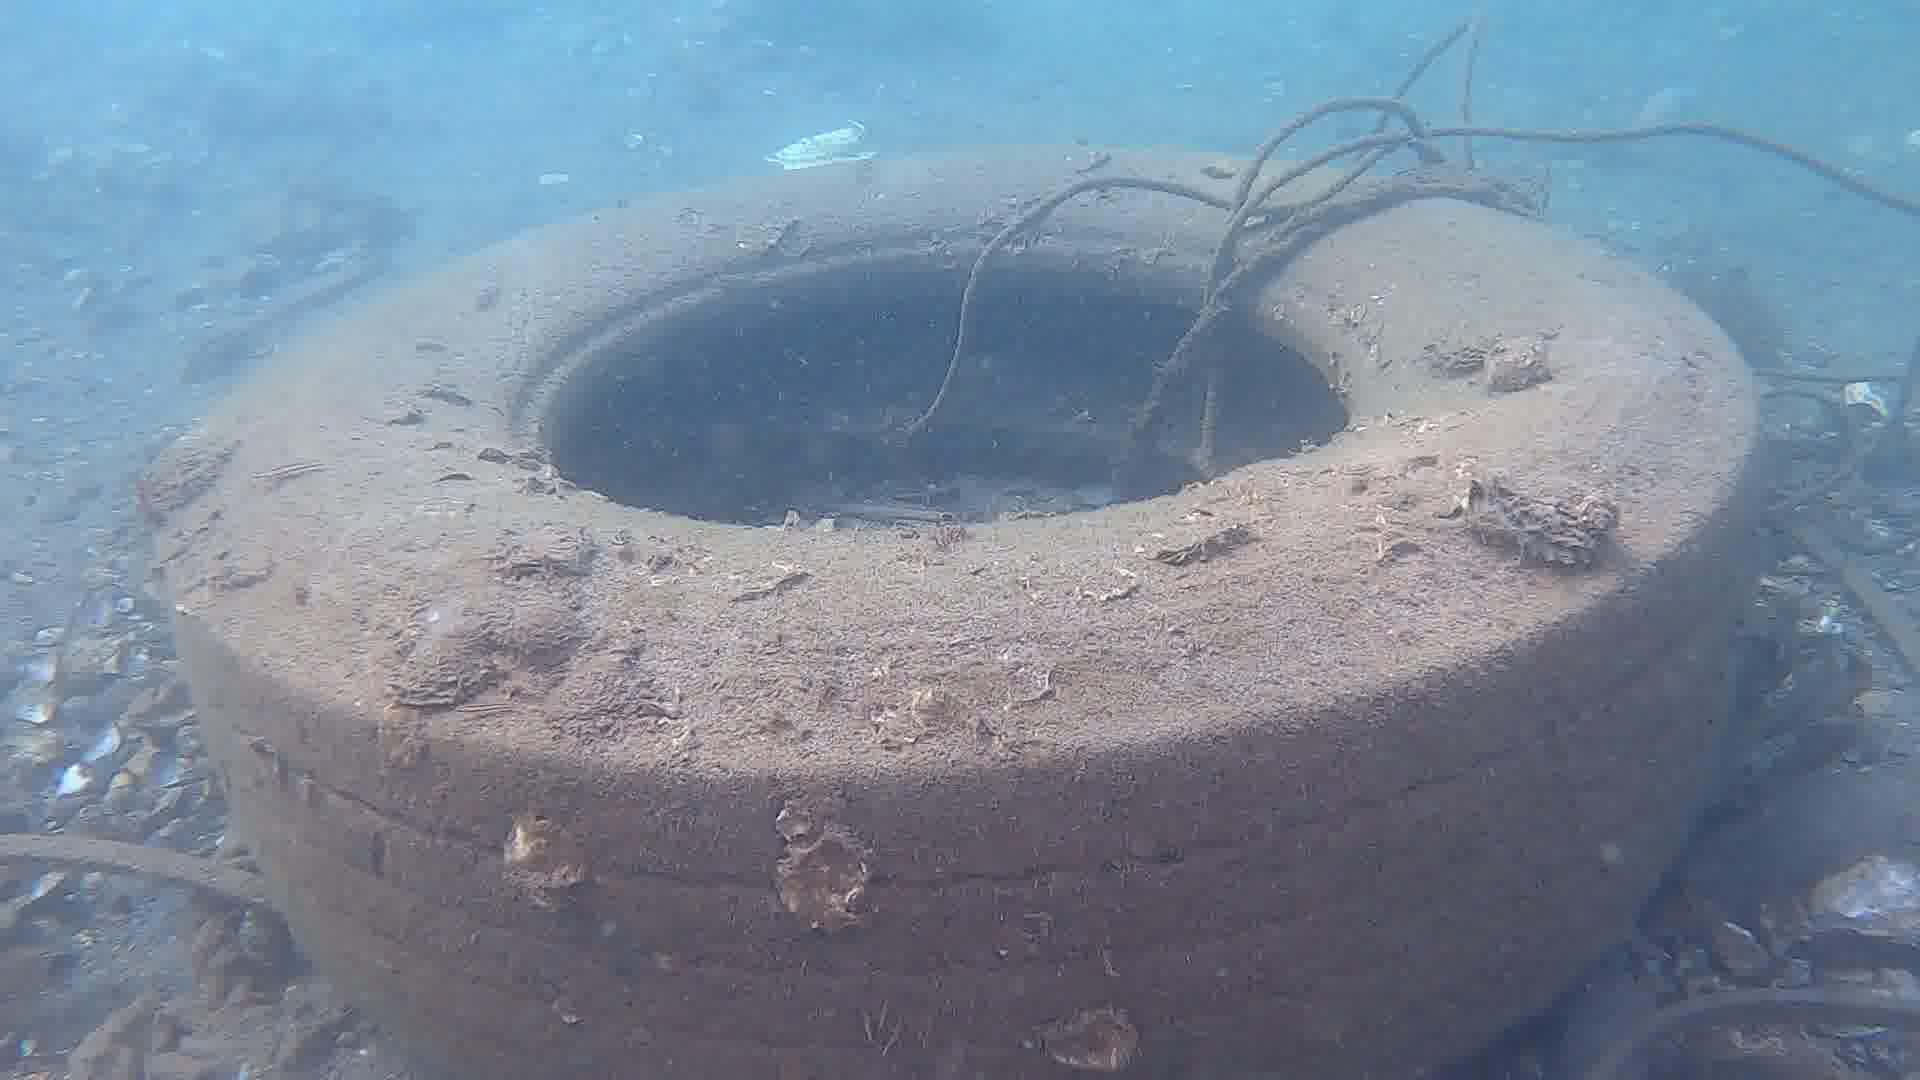bundle of ropes: (916, 9, 1920, 444)
tire: (156, 144, 1763, 1080)
